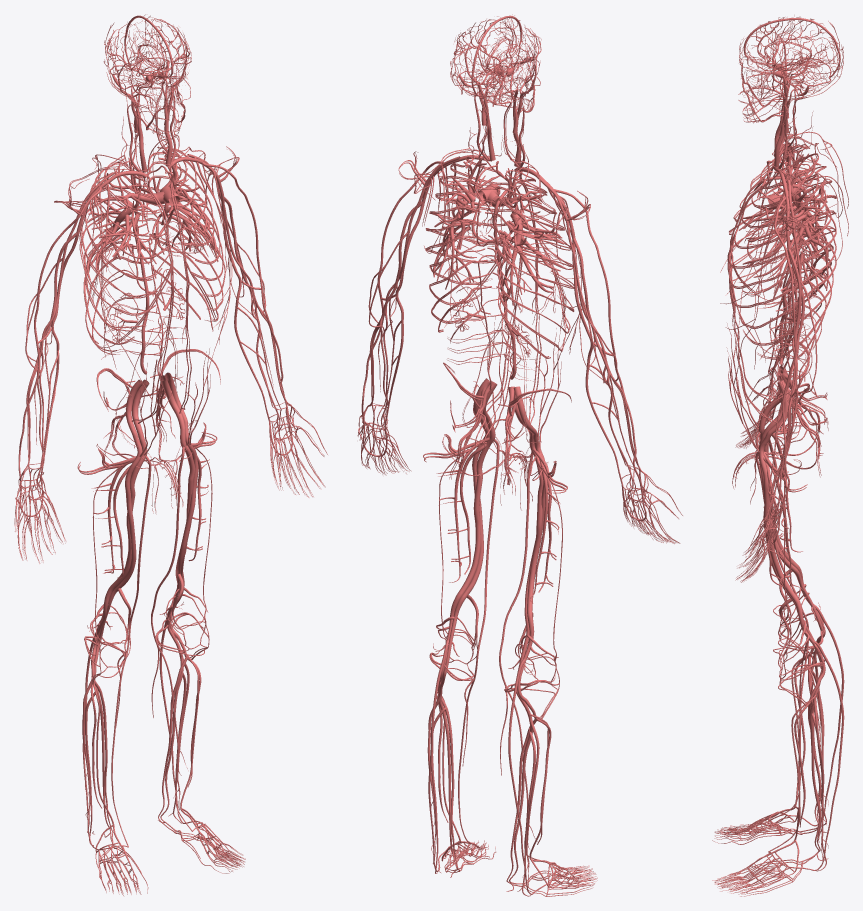
The model's file is body_vessels_v1.glb.
The picture shows the model from 3 angles, left to right: view 1: azimuth 30°, elevation 25°; view 2: azimuth 150°, elevation 25°; view 3: azimuth 270°, elevation 25°; orthographic projection. The views are drawn at different scales.
Parts seen in each view (by area): view 1: body.veins.leg, body.veins.trunk, body.arteries.leg, body.veins.arm, body.arteries.trunk, body.arteries.head, body.arteries.arm, body.veins.head; view 2: body.veins.leg, body.arteries.leg, body.veins.trunk, body.arteries.head, body.veins.arm, body.arteries.trunk, body.arteries.arm, body.veins.head; view 3: body.veins.leg, body.arteries.leg, body.veins.trunk, body.arteries.head, body.arteries.trunk, body.veins.arm, body.arteries.arm, body.veins.head.
Part boxes in pixels (x1,y1,x2,y2): body.veins.leg: [77, 321, 245, 895]; body.veins.trunk: [81, 147, 232, 455]; body.arteries.leg: [78, 331, 245, 893]; body.veins.arm: [15, 90, 326, 563]; body.arteries.trunk: [79, 150, 227, 512]; body.arteries.head: [85, 14, 222, 279]; body.arteries.arm: [14, 85, 327, 563]; body.veins.head: [107, 15, 190, 238]; body.veins.leg: [423, 319, 597, 896]; body.arteries.leg: [424, 327, 597, 894]; body.veins.trunk: [425, 155, 581, 440]; body.arteries.head: [424, 14, 565, 305]; body.veins.arm: [358, 80, 680, 543]; body.arteries.trunk: [425, 157, 579, 510]; body.arteries.arm: [357, 71, 682, 543]; body.veins.head: [452, 15, 540, 242]; body.veins.leg: [712, 317, 844, 896]; body.arteries.leg: [714, 328, 828, 894]; body.veins.trunk: [720, 143, 836, 449]; body.arteries.head: [738, 15, 848, 298]; body.arteries.trunk: [727, 143, 836, 452]; body.veins.arm: [736, 81, 817, 581]; body.arteries.arm: [735, 72, 837, 582]; body.veins.head: [738, 18, 843, 242].
Size of the model in its own units: 0.664 by 1.7 by 0.2489.
